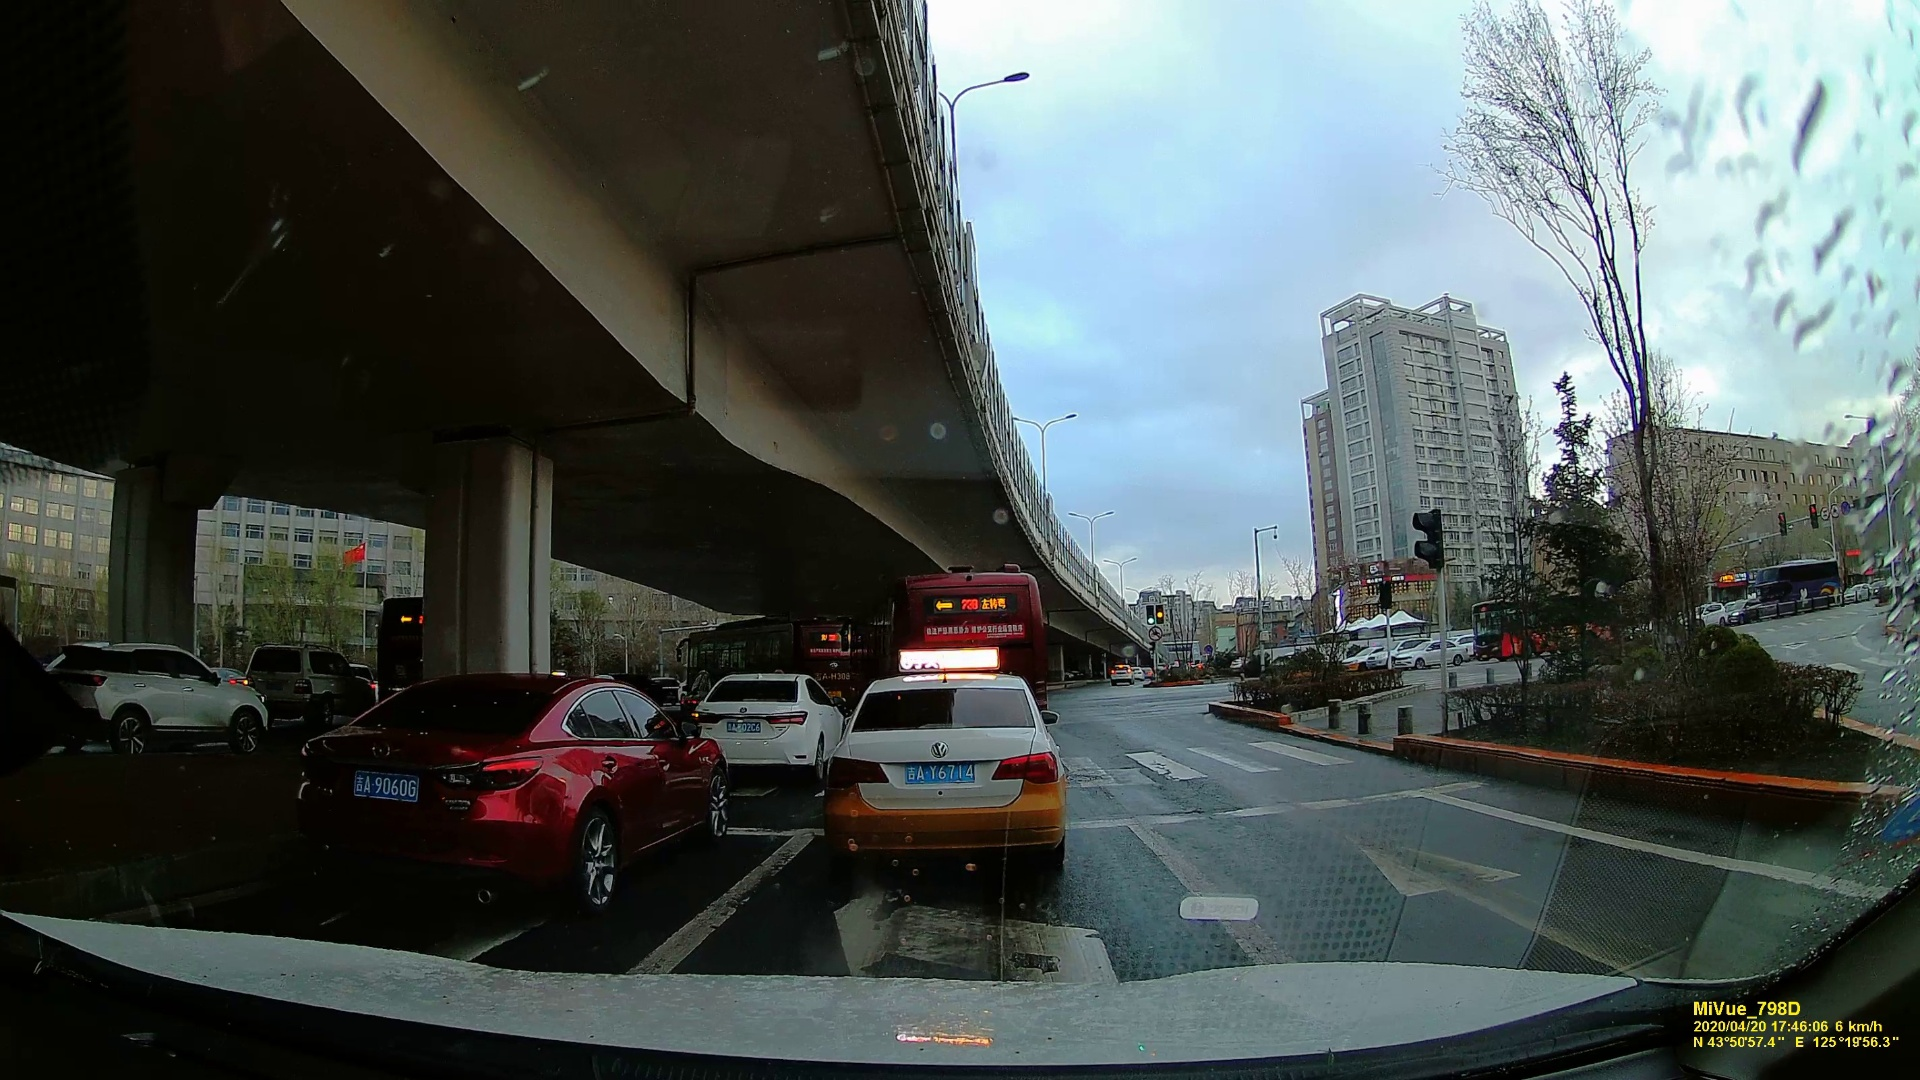bus: (891, 574, 1034, 686), (1758, 560, 1844, 605), (365, 593, 419, 659)
traffic_sign: (1414, 506, 1447, 564), (1153, 607, 1167, 632), (1807, 502, 1817, 530), (1776, 512, 1787, 535), (1818, 506, 1829, 521)
vehicle: (309, 670, 725, 905), (839, 671, 1068, 880), (44, 637, 272, 748), (699, 669, 837, 787), (232, 640, 361, 728), (1106, 666, 1141, 684)
